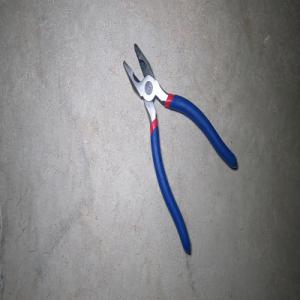Pliers: (122, 43, 237, 255)
